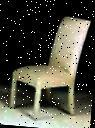Silla: (6, 12, 92, 123)
